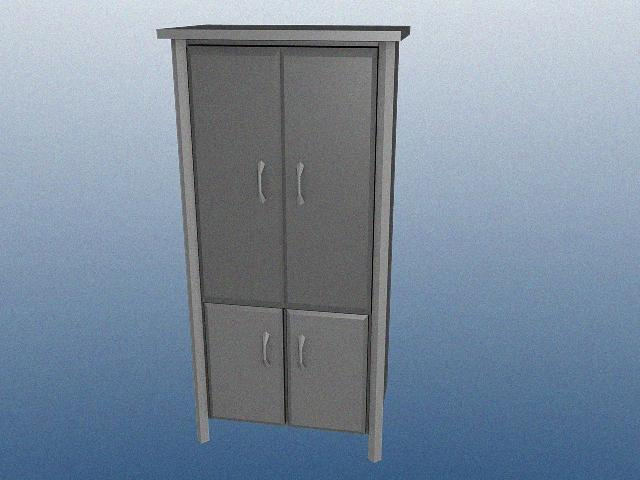cabinet_door: (284, 47, 374, 312), (195, 46, 284, 305), (287, 312, 369, 430), (207, 306, 287, 422)
handle: (251, 154, 273, 212), (293, 327, 316, 378), (289, 157, 310, 211), (255, 325, 276, 375)
